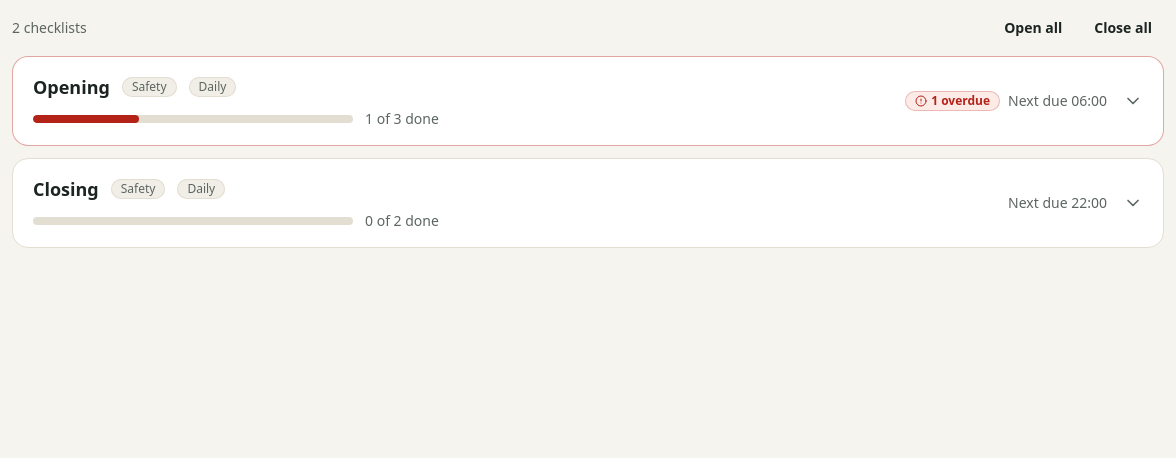
Test case: ChecklistGroups › opens a closed checklist when its heading is pressed, and opens or closes them all
Click the button "Closing Safety Daily 0 of 2 done Next due 22:00" at (66, 189), box [13,159,1163,247]
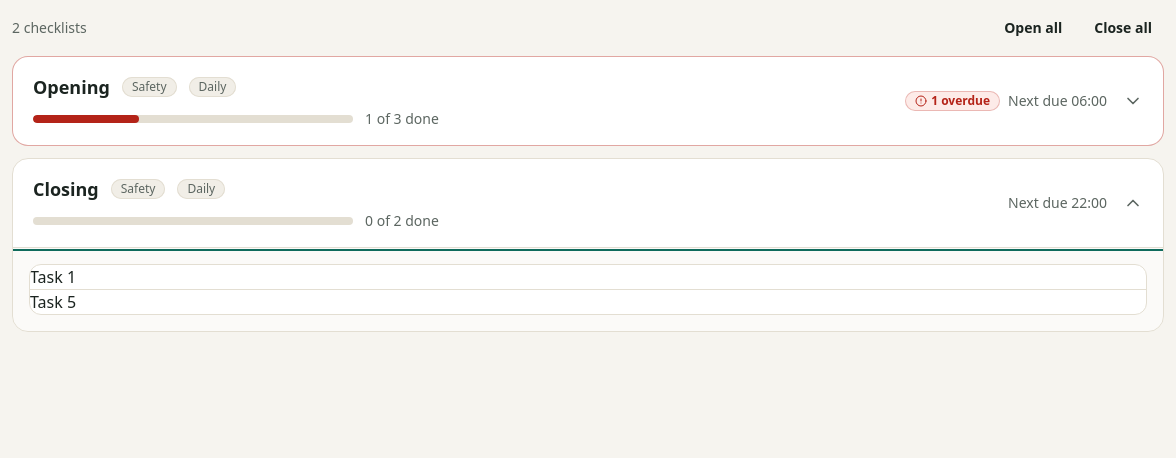
Result: the button "Closing Safety Daily 0 of 2 done Next due 22:00" is expanded at [13,159,1163,247]
Click the button "Close all" at (1123, 28), box [1082,12,1164,44]
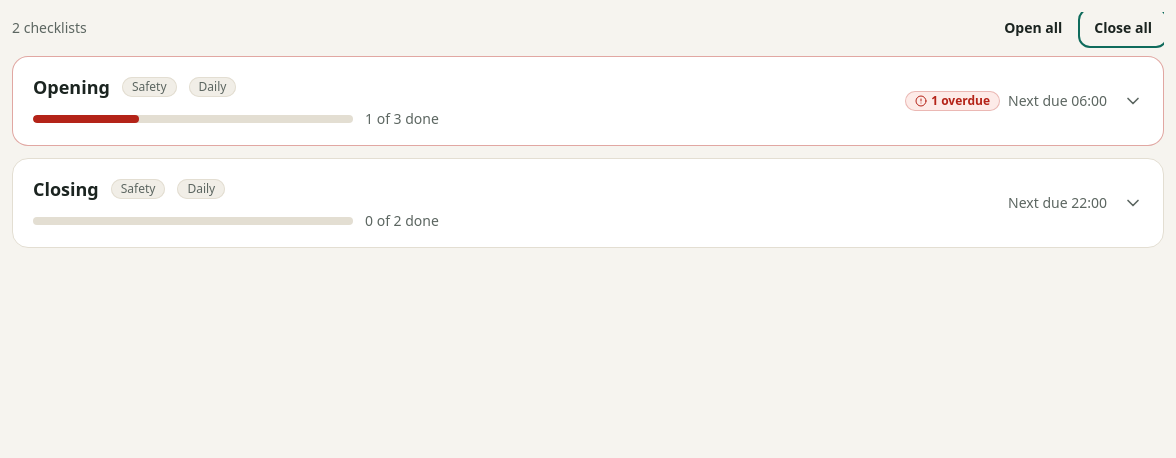
Result: the button "Closing Safety Daily 0 of 2 done Next due 22:00" is collapsed at [13,159,1163,247]
Click the button "Open all" at (1033, 28), box [992,12,1074,44]
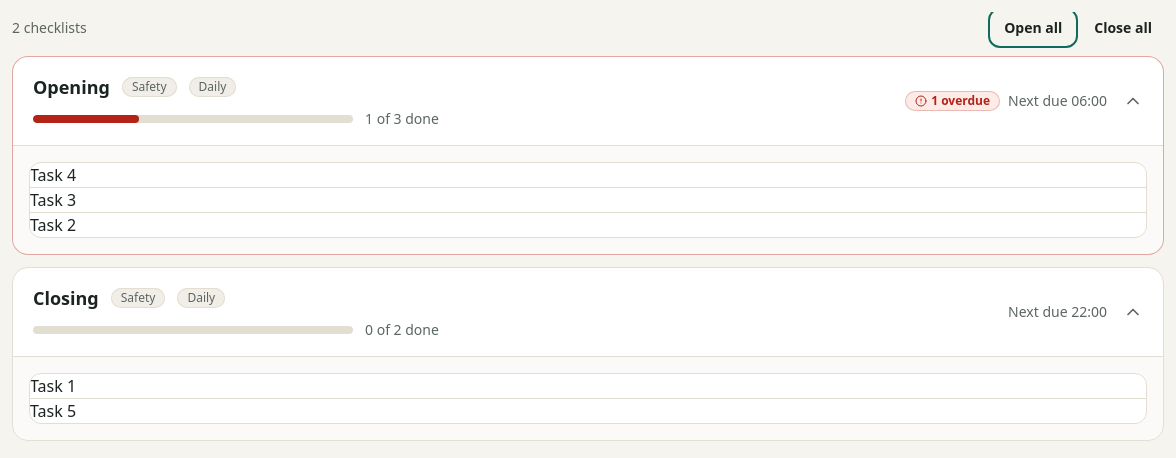
Result: the button "Closing Safety Daily 0 of 2 done Next due 22:00" is expanded at [13,268,1163,356]
